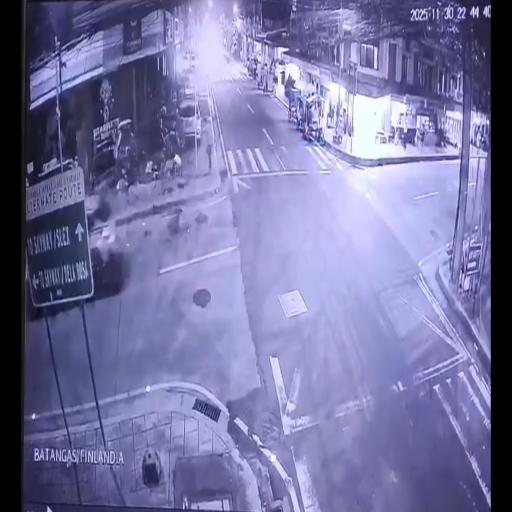Car: (81, 188, 117, 281)
